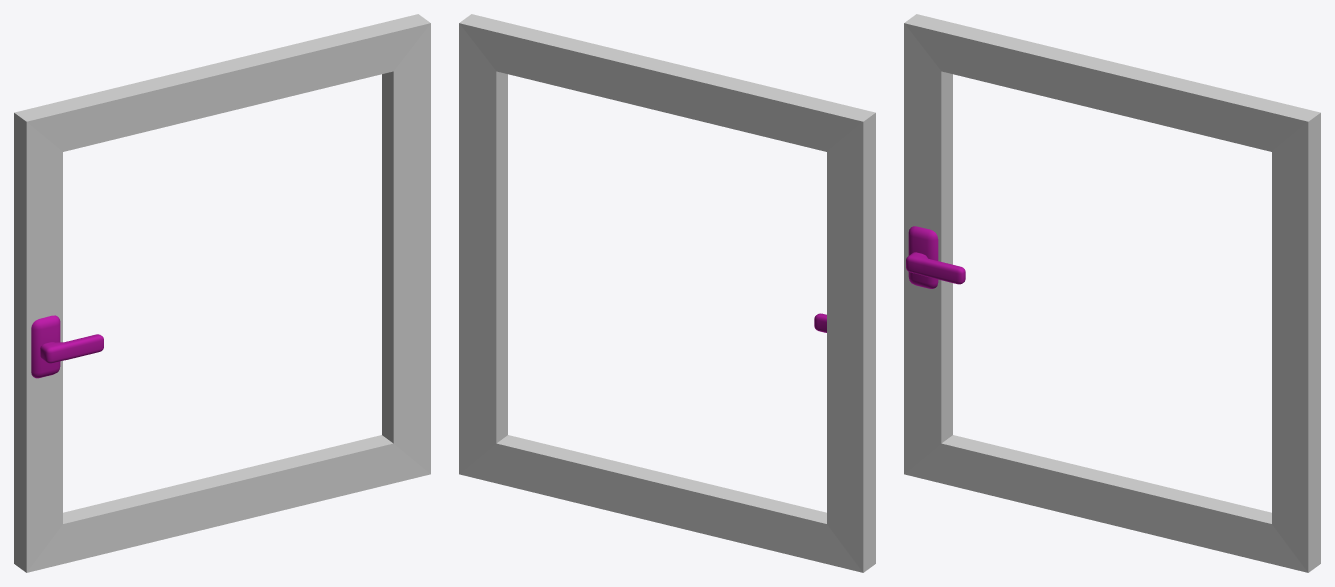
Rendered from Ventana.fbx.
3 views of the same model, side by side, from view 1: azimuth 30°, elevation 25°; view 2: azimuth 150°, elevation 25°; view 3: azimuth 330°, elevation 25° (orthographic).
Visible parts, largest first — view 1: Ventana; view 2: Ventana; view 3: Ventana.
Part boxes in pixels (left/top/right/bottom): Ventana: left=14, top=14, right=430, bottom=572; Ventana: left=459, top=14, right=875, bottom=572; Ventana: left=904, top=14, right=1320, bottom=572.
Size of the model in its own units: 524 by 558 by 51.68.
